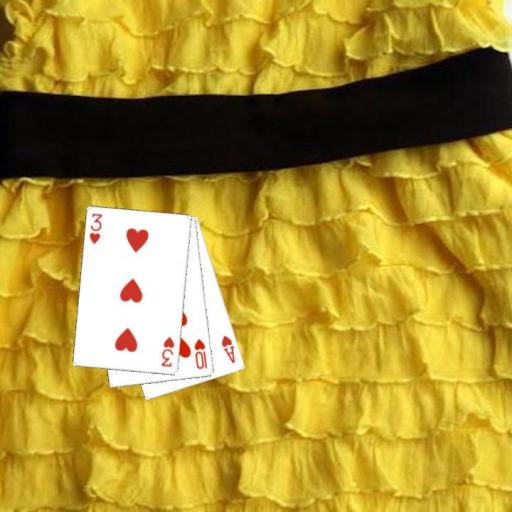10H: (191, 336, 209, 371)
3H: (158, 334, 176, 369), (87, 211, 104, 246)
AH: (218, 332, 237, 365)
